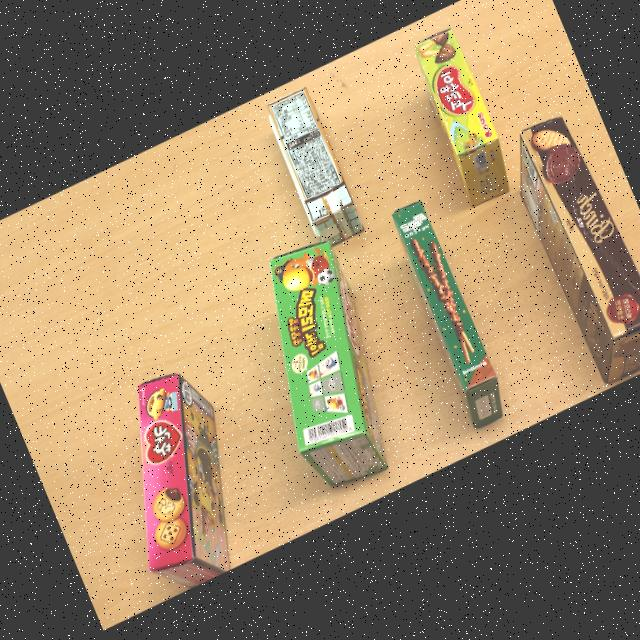box: (520, 125, 640, 392), (269, 245, 388, 492), (392, 207, 503, 436), (136, 376, 229, 591), (414, 34, 509, 212), (268, 91, 363, 249)
